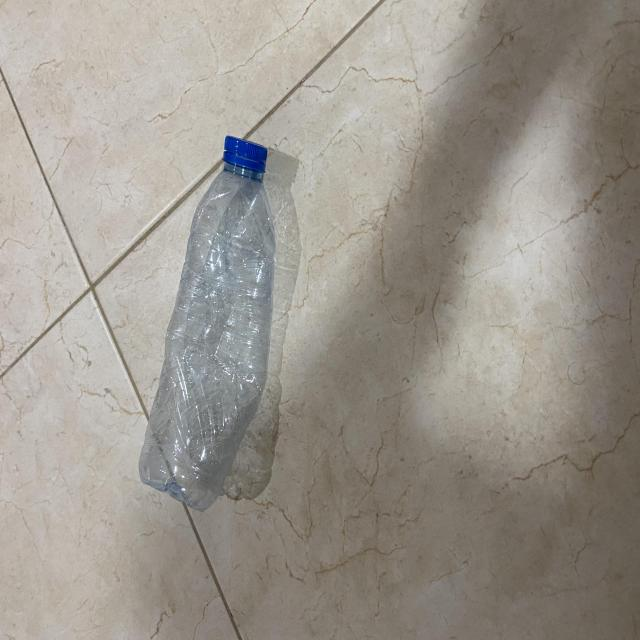plastic: (134, 130, 272, 513)
